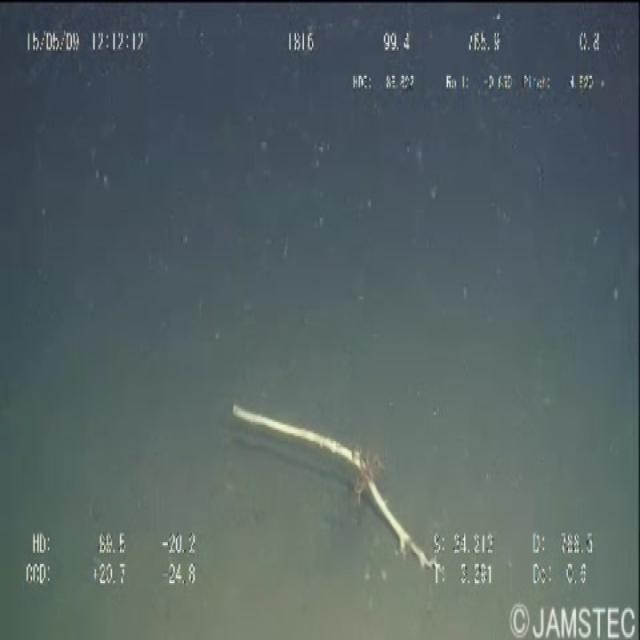Wood: (222, 376, 452, 598)
